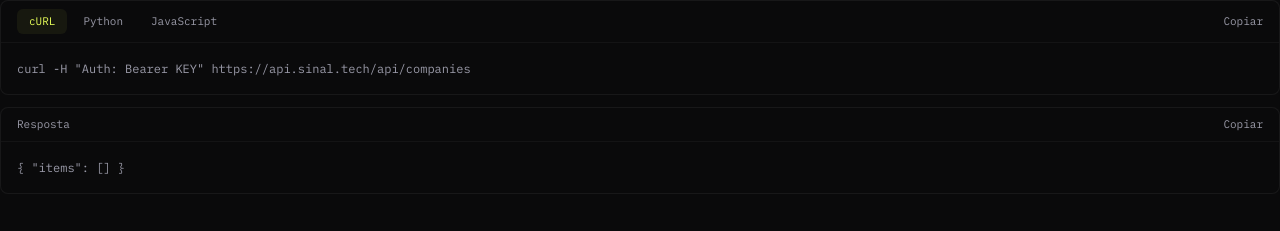
Test case: CodeTabs › switches to Python when tab is clicked
The image size is (1280, 231).
Click the tab "Python": (103, 21) [71,9,135,34]
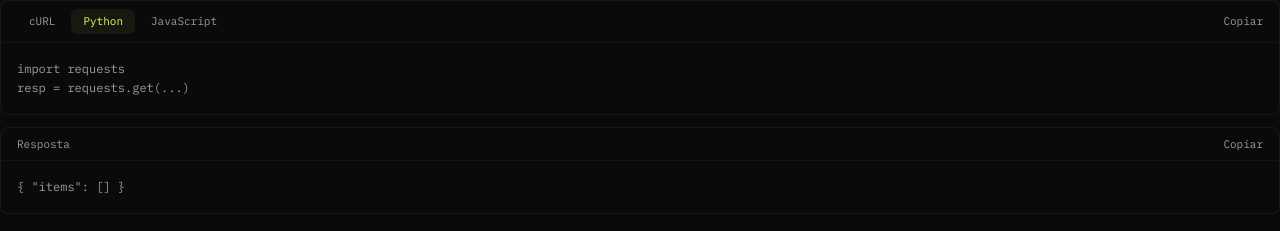
Expected: the text "import requests resp = requests.get(...)" is shown, [17,60,190,95]
